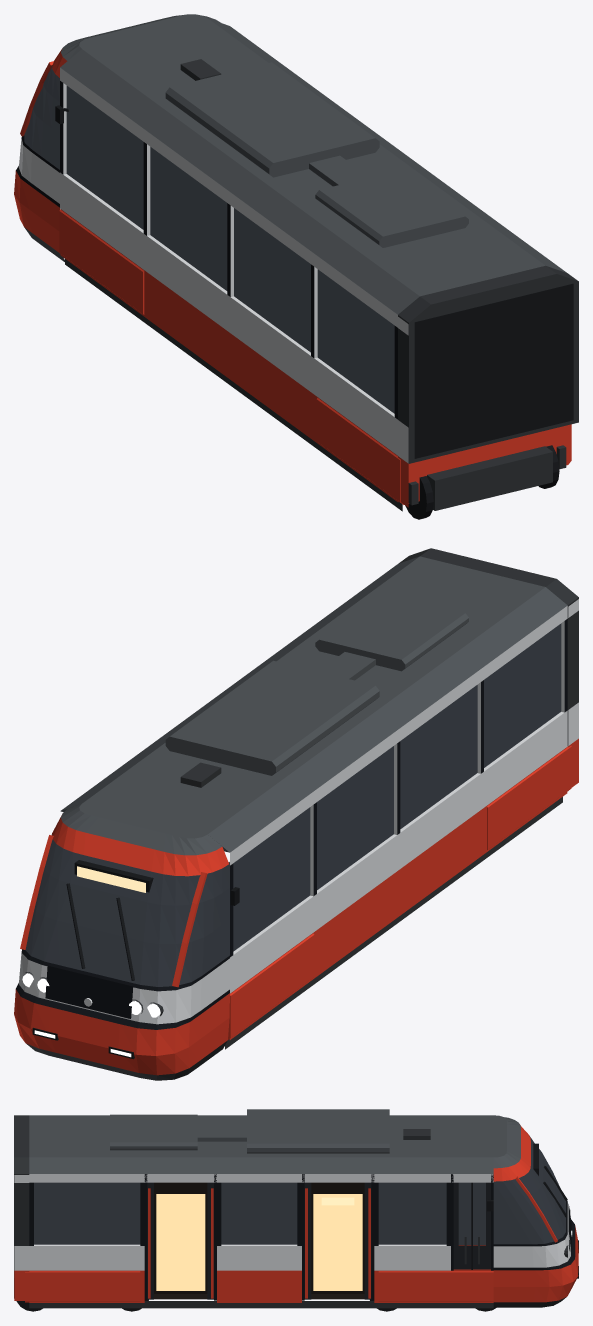
The model's file is 15t-a-open.glb.
The picture shows the model from 3 angles, top to bottom: view 1: azimuth 30°, elevation 25°; view 2: azimuth 150°, elevation 25°; view 3: azimuth 270°, elevation 25°; orthographic projection. The views are drawn at different scales.
Parts seen in each view (by area): view 1: 15t-a-open; view 2: 15t-a-open; view 3: 15t-a-open.
Part boxes in pixels (box(x1,y1,x2,y2)): 15t-a-open: box(14, 14, 578, 519); 15t-a-open: box(14, 548, 578, 1080); 15t-a-open: box(14, 1109, 578, 1311).
Size of the model in its own units: 2.6 by 3.28 by 10.31.
